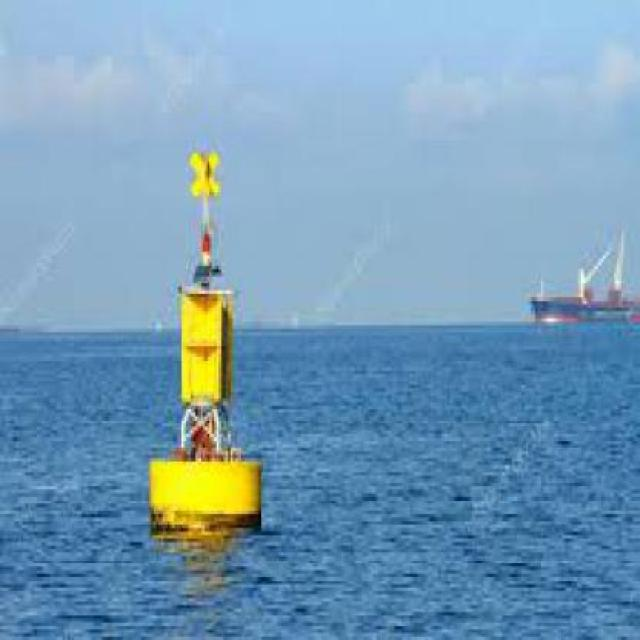buoy: (141, 138, 269, 547)
